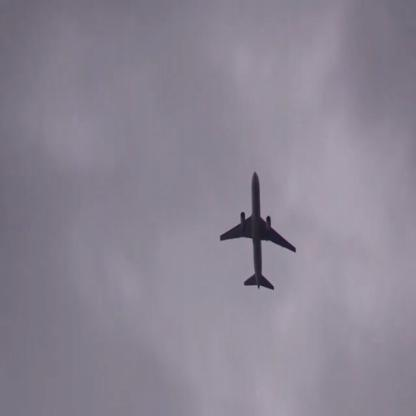CIV_Plane: (218, 170, 296, 289)
